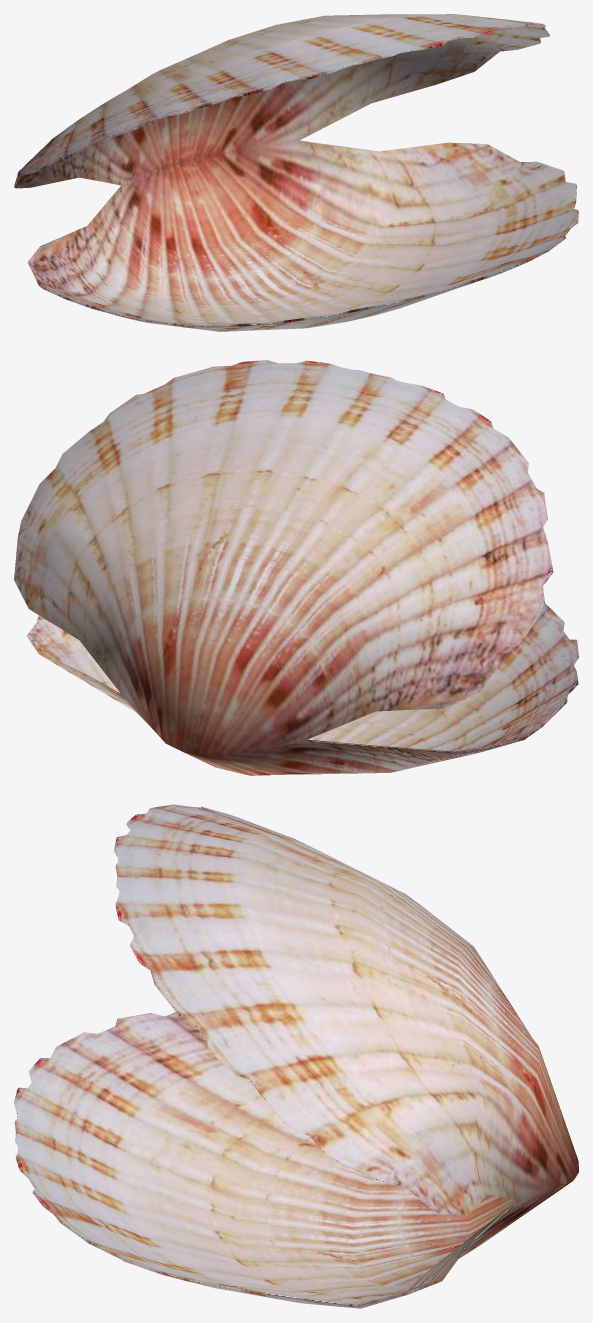
Rendered from Seashell01.fbx.
3 views of the same model, one above another, from view 1: azimuth 30°, elevation 25°; view 2: azimuth 150°, elevation 25°; view 3: azimuth 270°, elevation 25° (orthographic). The views are drawn at different scales.
Parts seen in each view (by area): view 1: Seashell01; view 2: Seashell01; view 3: Seashell01.
Part boxes in pixels (x1=…): Seashell01: x1=14, y1=14, x2=578, y2=331; Seashell01: x1=14, y1=360, x2=578, y2=775; Seashell01: x1=14, y1=804, x2=578, y2=1308.
Bounding box in the file's own units: 105 × 60.64 × 83.46.
